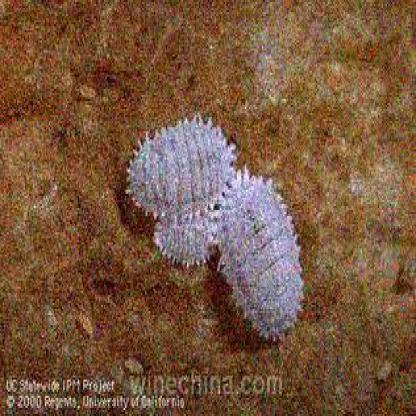mealy bug: (224, 175, 305, 335), (130, 120, 232, 213)
